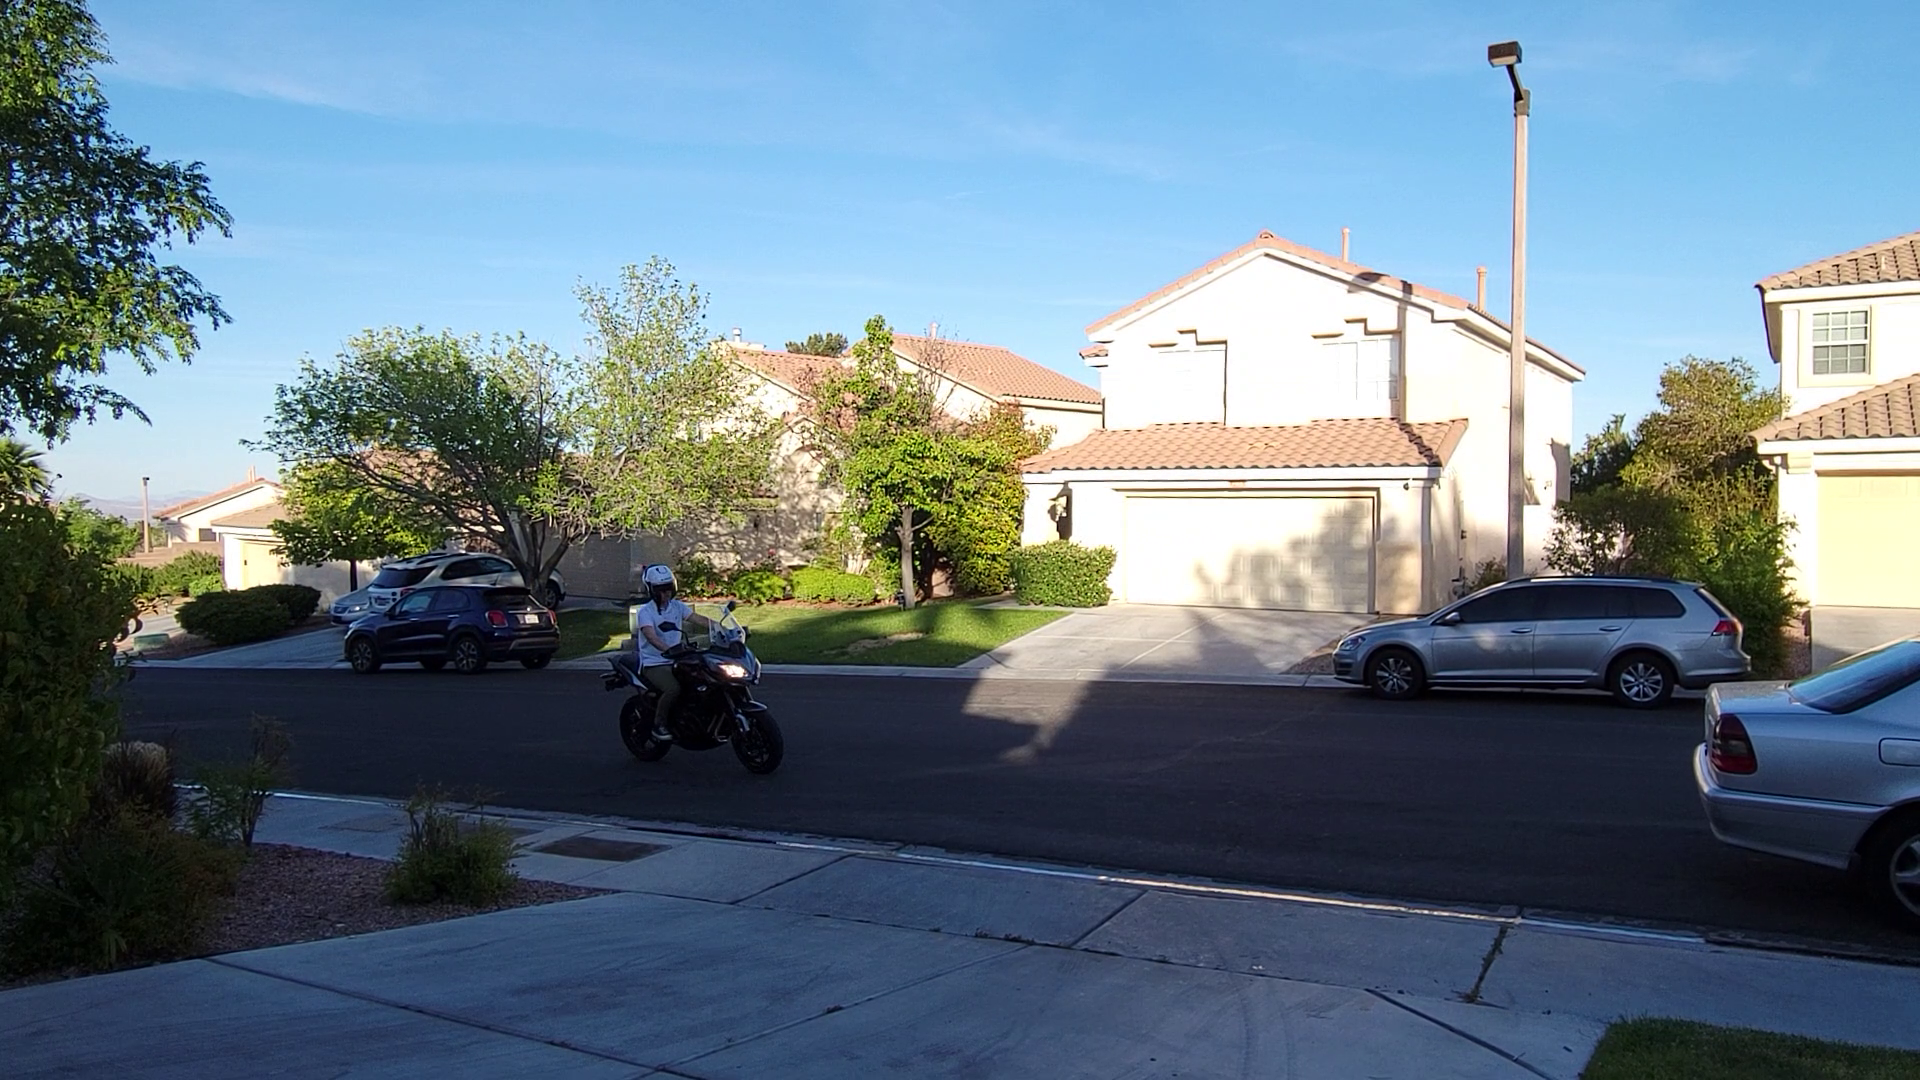my bike: (595, 556, 787, 777)
